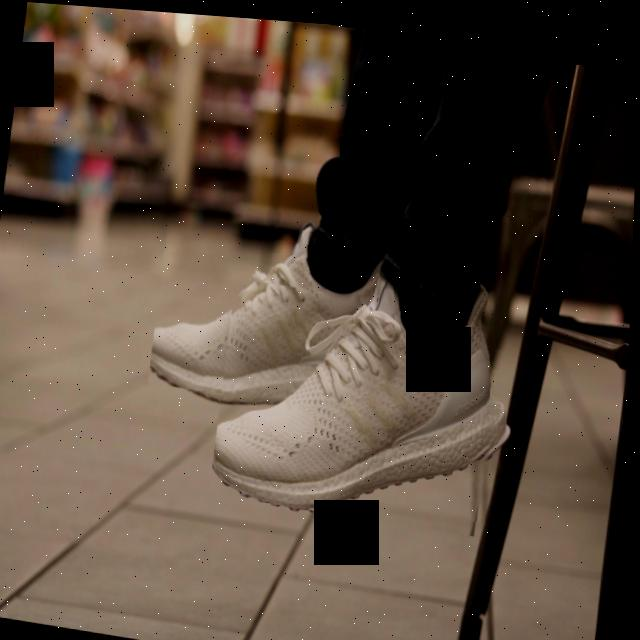shoe: (211, 273, 514, 531), (150, 198, 341, 405)
